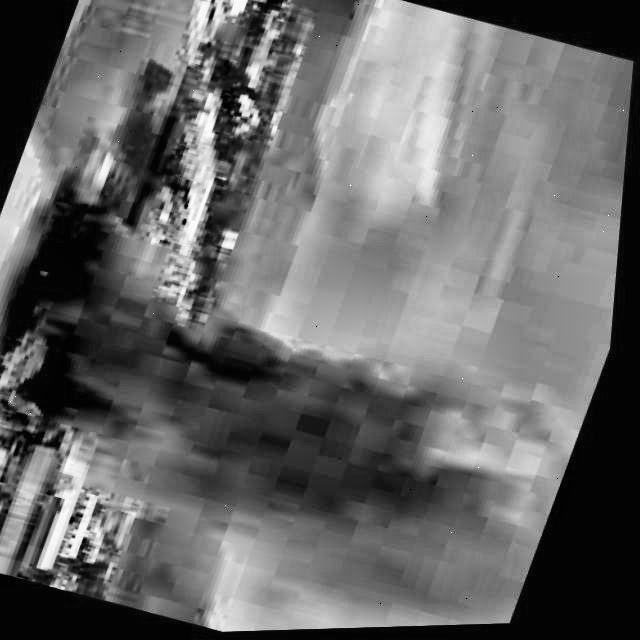Smoke: (0, 160, 629, 640)
